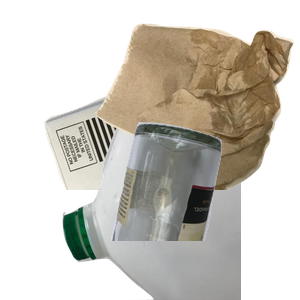glass: (109, 120, 300, 300)
paper: (42, 68, 275, 248)
plastic: (60, 120, 300, 300)
trash: (92, 21, 300, 201)
